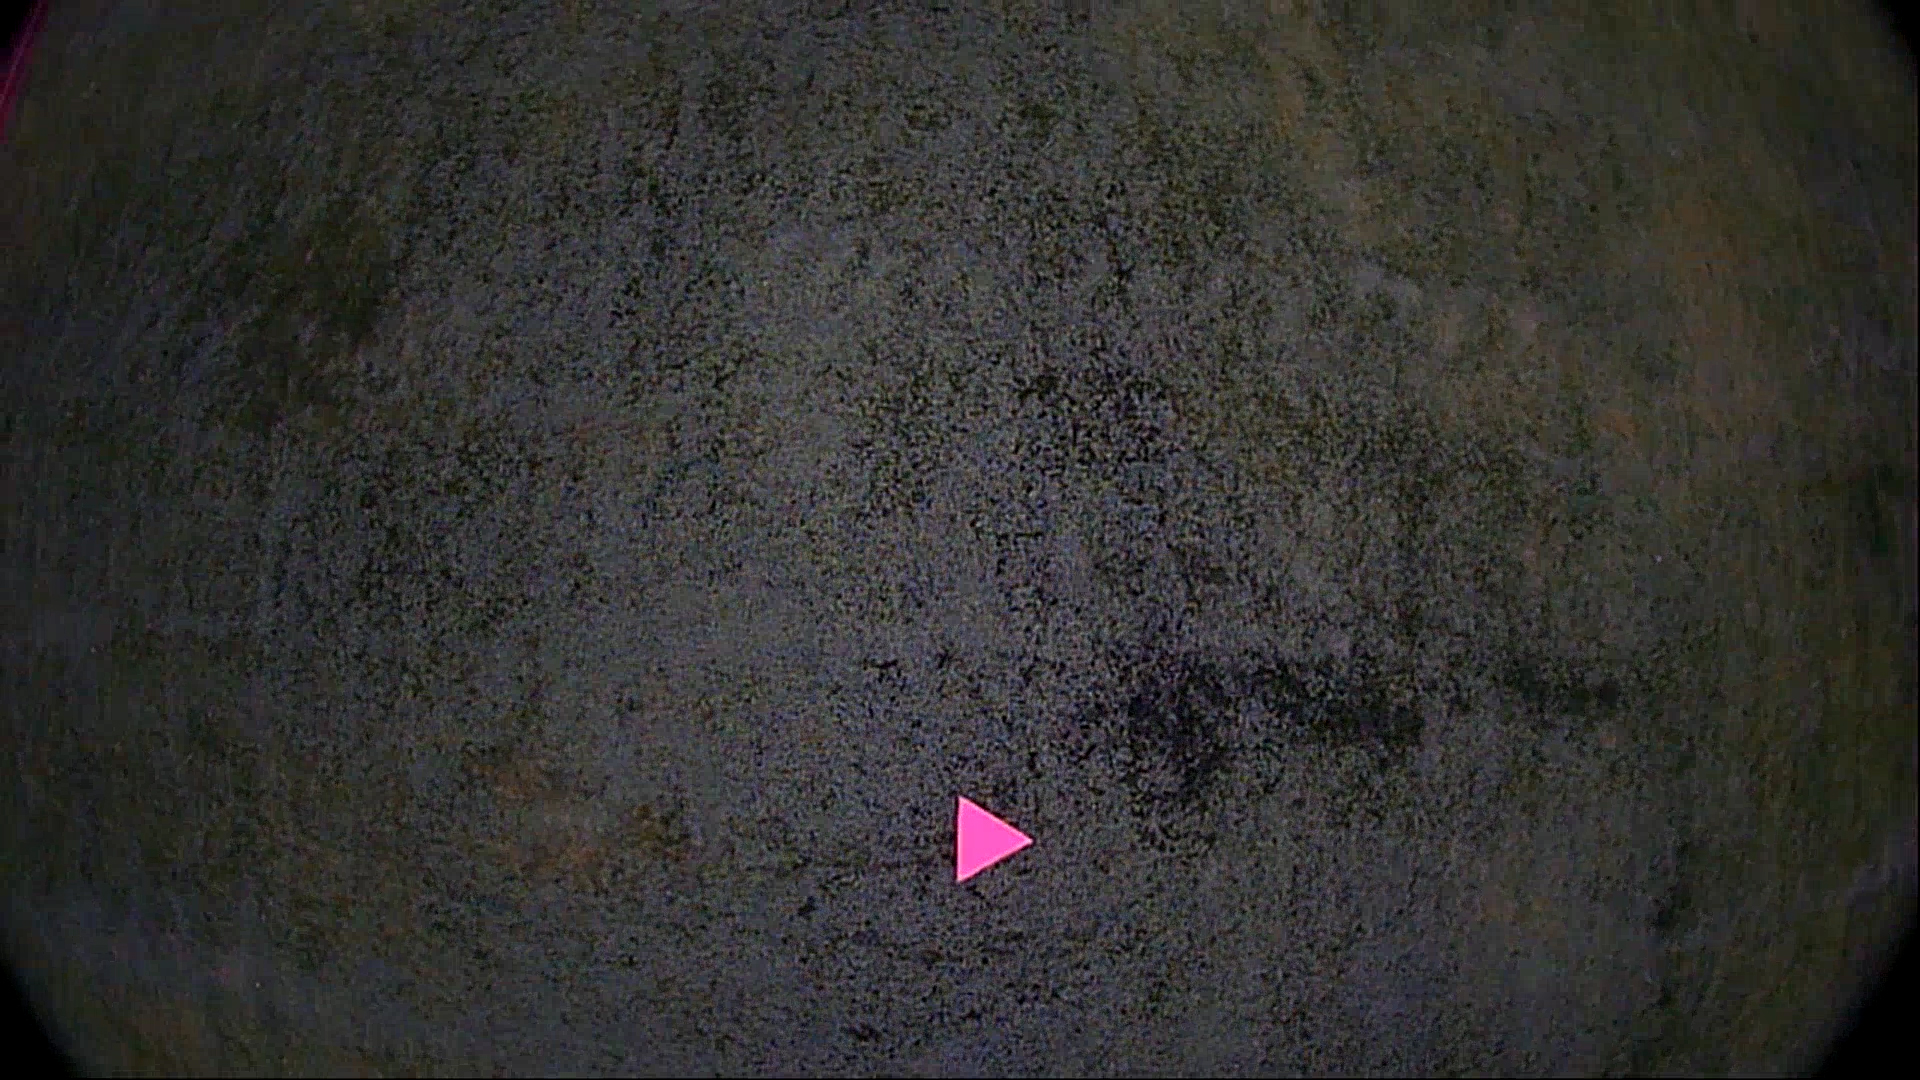triangle: (942, 771, 1040, 889)
